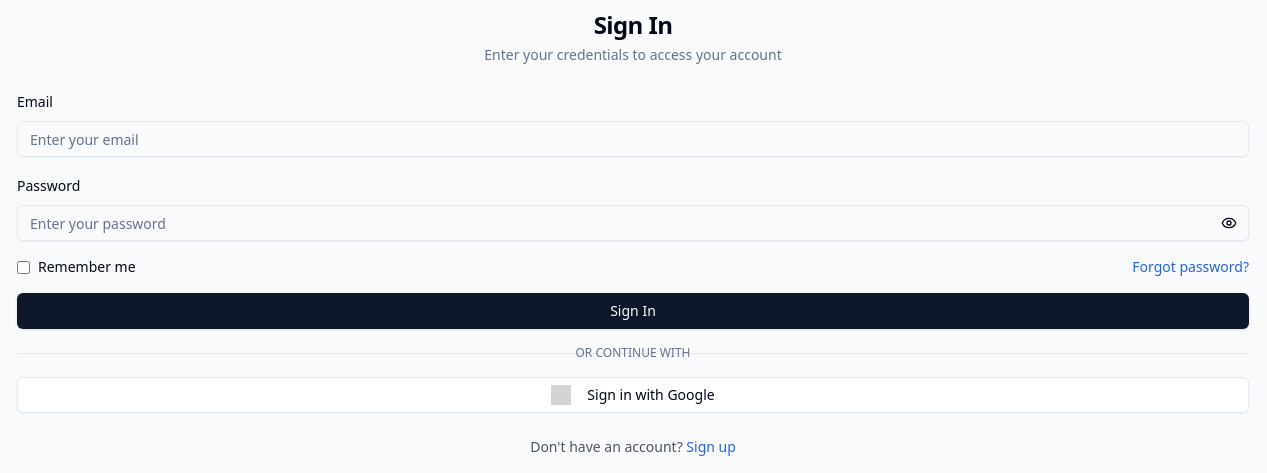
Test: LoginForm › displays loading state during submission
Type "test@example.com" into the field labelled "Email" at (633, 139), box [17,121,1249,157]
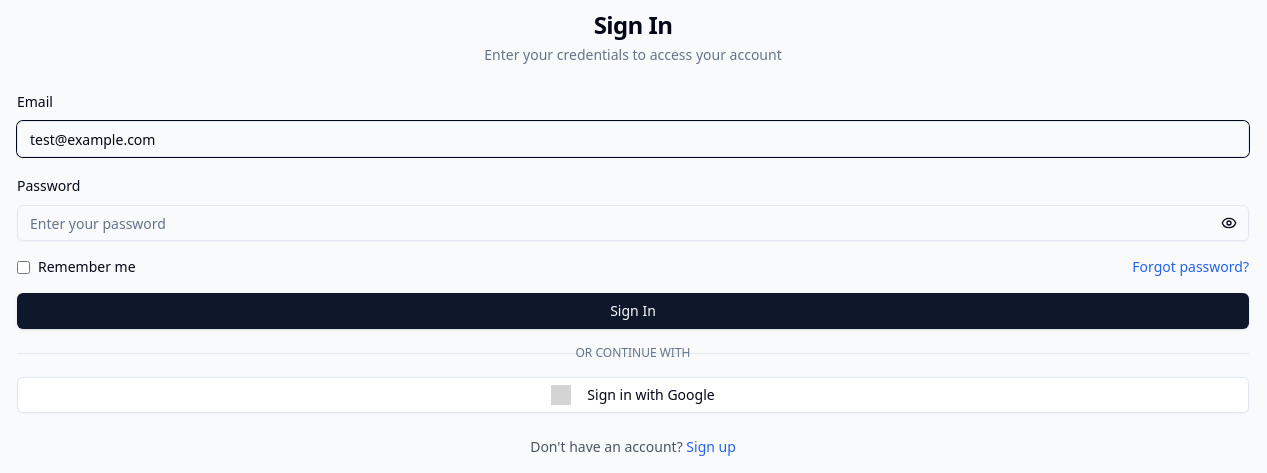
Type "password123" into the password field labelled "Password" at (633, 223), box [17,205,1249,241]
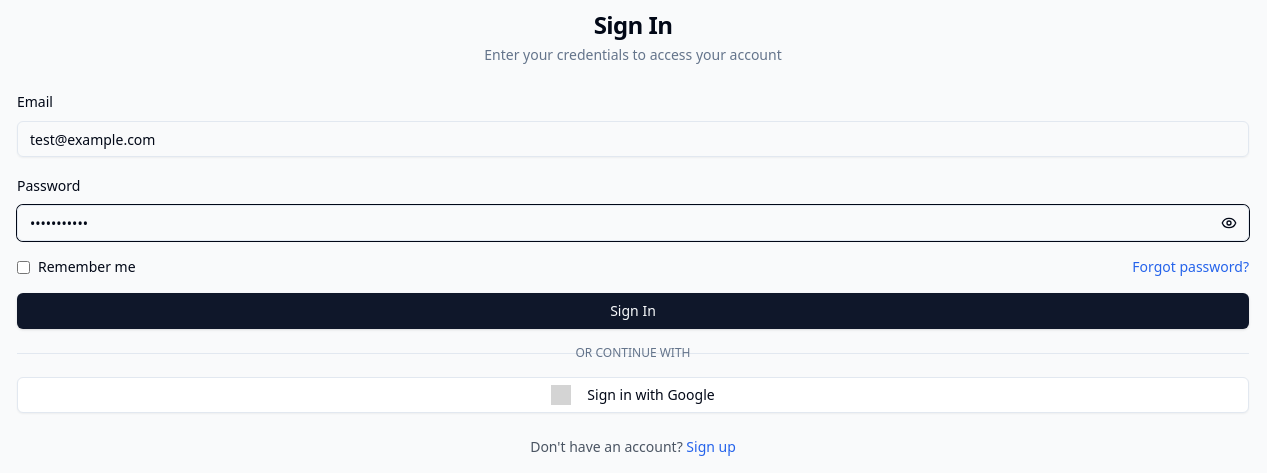
// Use exact match for the submit button
Click the button "Sign In" at (633, 311), box [17,293,1249,329]
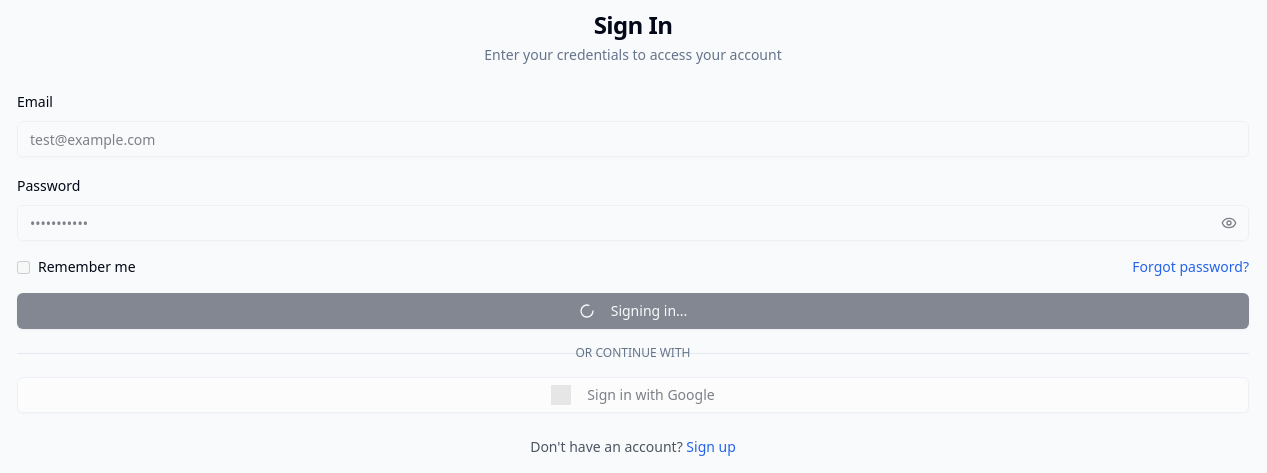
Expected: the button "Signing in..." is shown, [17,293,1249,329]
